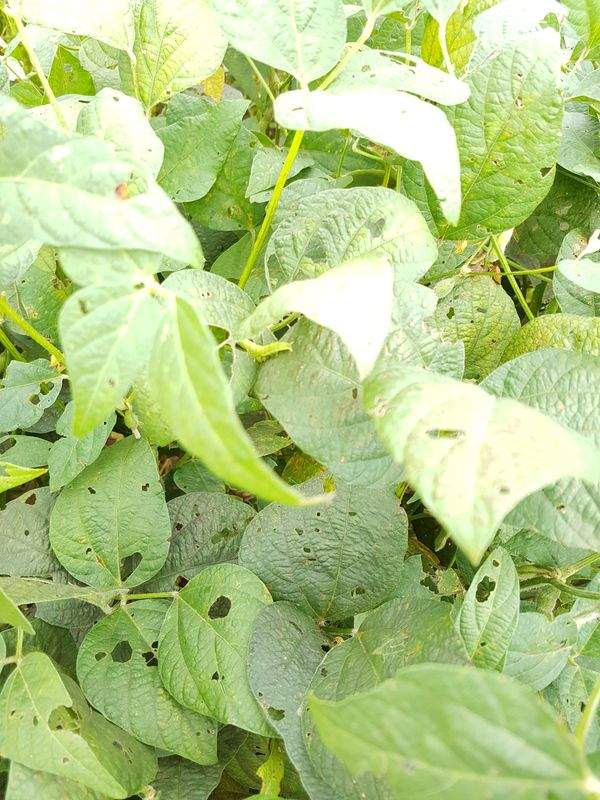Anticarsia_gemmatalis: (224, 323, 303, 380)
Euschistus_heros_adulto: (481, 262, 506, 287)
Euschistus_heros_ninfa: (450, 236, 471, 258)
